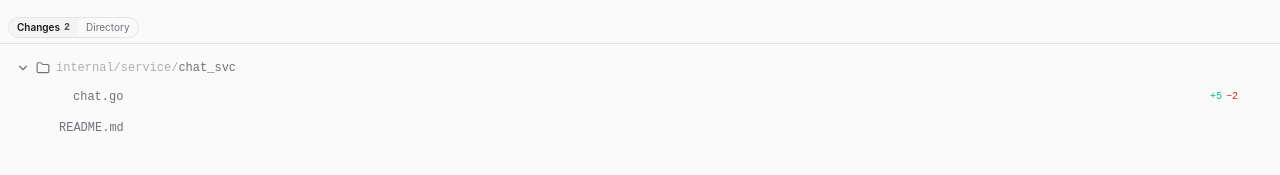
Scenario: FilesPanel directory search › (e) surfaces the daemon-outdated message verbatim for search failures too
Click the tab "Directory". click: (108, 28)
box: [78,18,138,37]
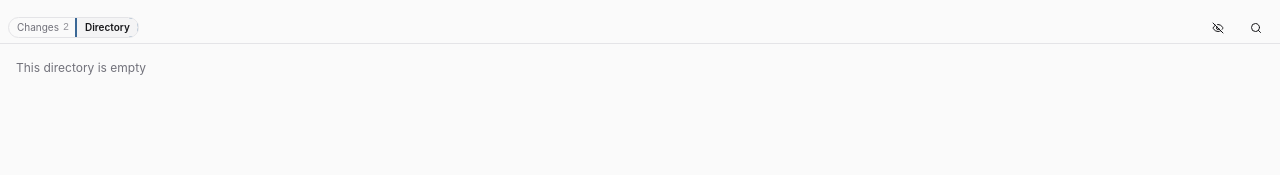
Click the button named "search". click: (1256, 28)
box: [1240,16,1272,40]
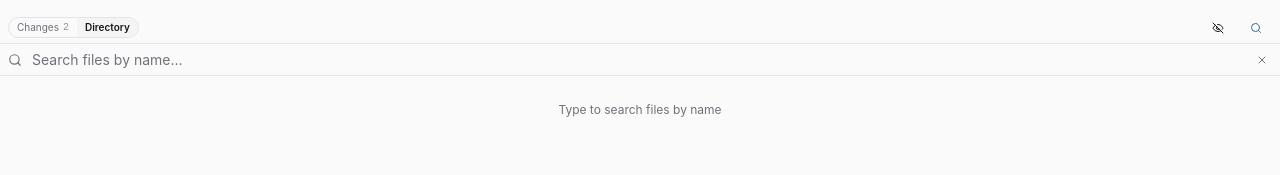
Type "main" into the field labelled "Search files by name…". click: (637, 60)
box: [28,48,1246,72]
Wait 300 ms
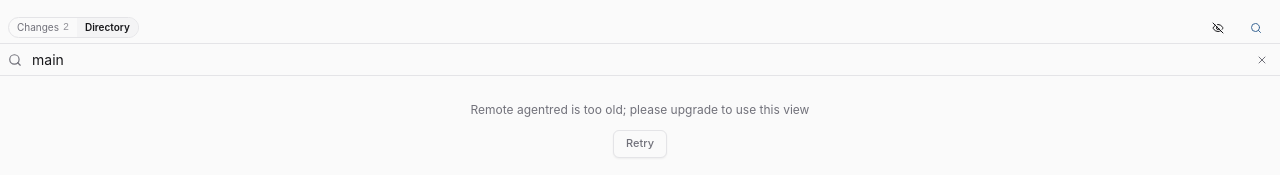
Check: the text "Remote agentred is too old; please upgrade to use this view" is shown, box [471,102,810,117]
